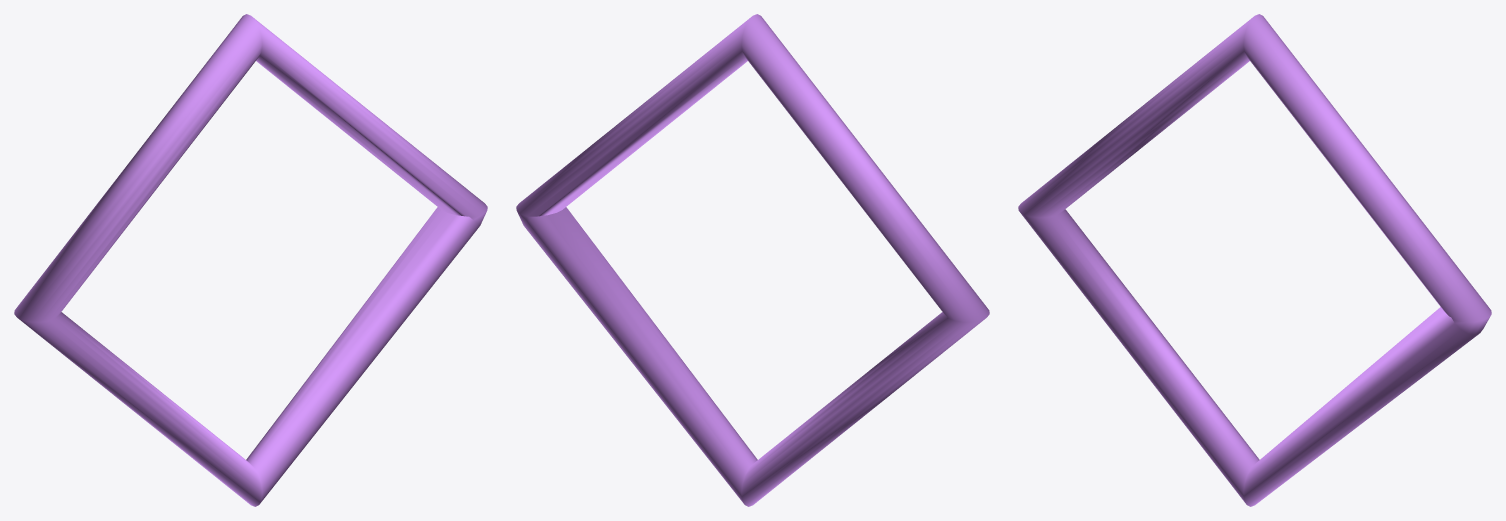
Rendered from diamond-ChdSs0A6.glb.
3 renders of one model, left to right at view 1: azimuth 30°, elevation 25°; view 2: azimuth 150°, elevation 25°; view 3: azimuth 330°, elevation 25°, orthographic.
Visible parts, largest first — view 1: R3D_diamond_Body_0; view 2: R3D_diamond_Body_0; view 3: R3D_diamond_Body_0.
Part boxes in pixels (x1,y1,x2,y2): R3D_diamond_Body_0: (14, 14, 487, 506); R3D_diamond_Body_0: (516, 14, 989, 506); R3D_diamond_Body_0: (1018, 14, 1491, 506).
Bounding box in the file's own units: 2.84 × 2.84 × 0.24.
